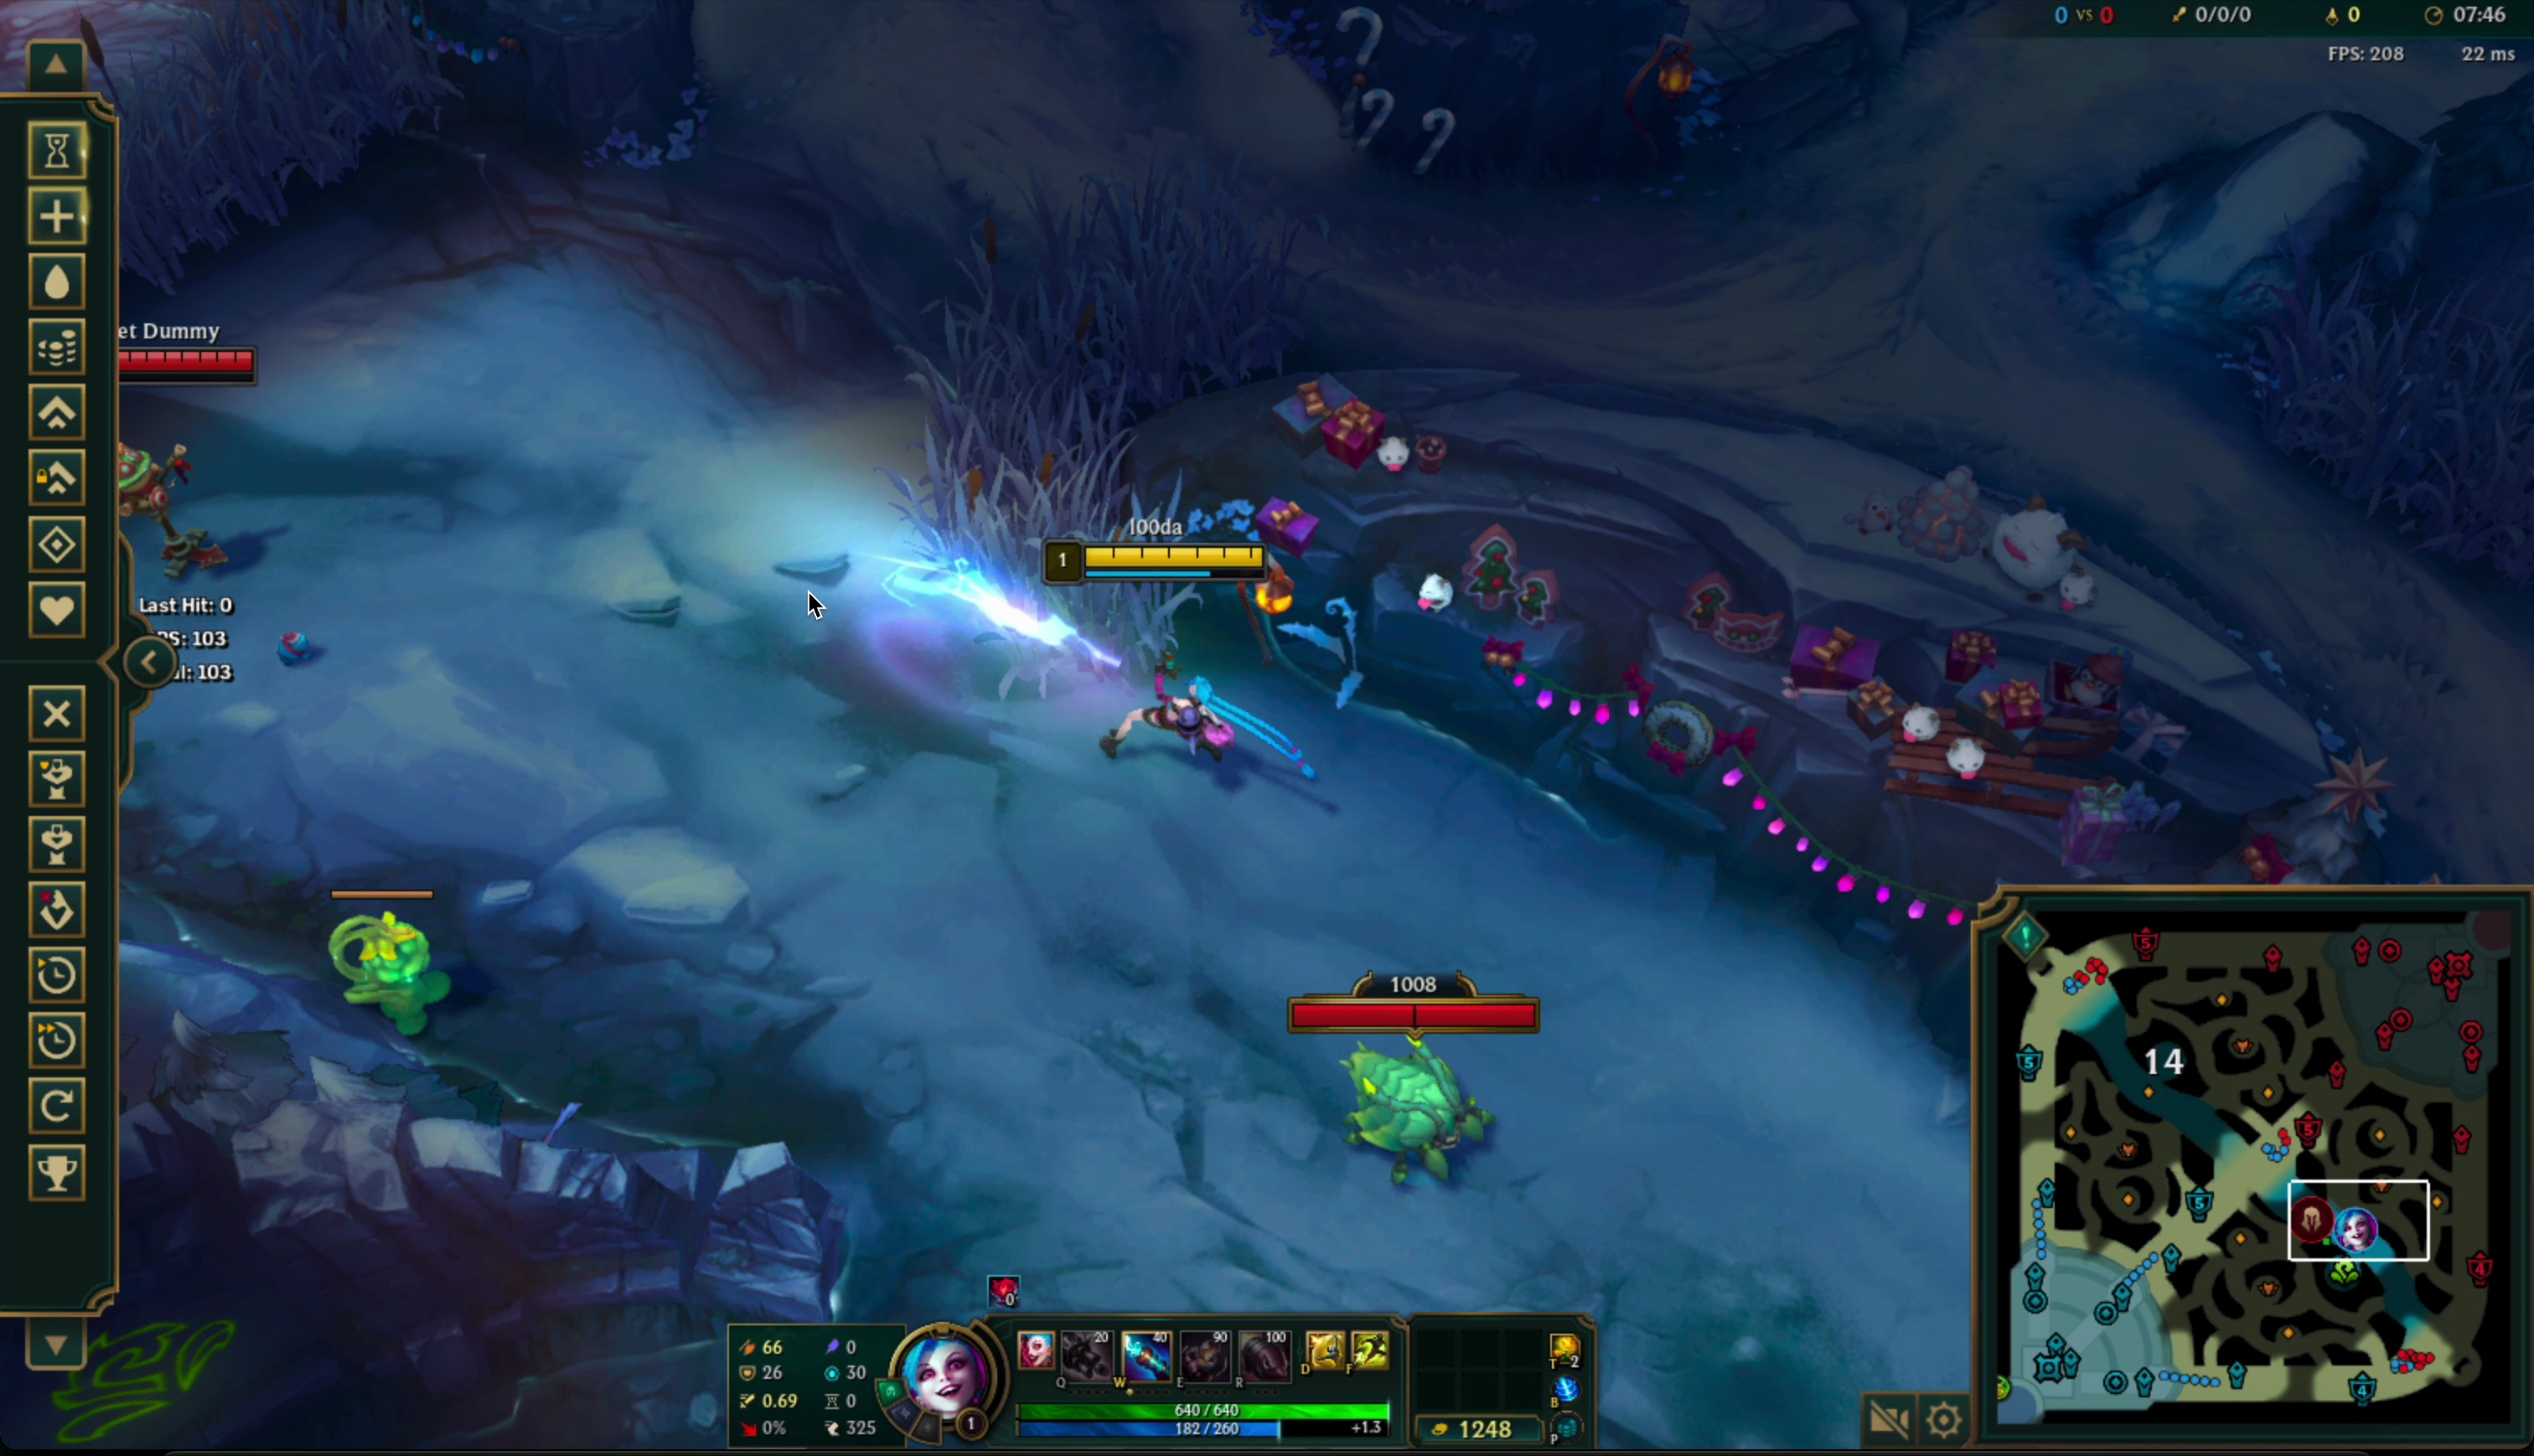JINX_W_PROJECTILE: (644, 454, 1232, 771)
